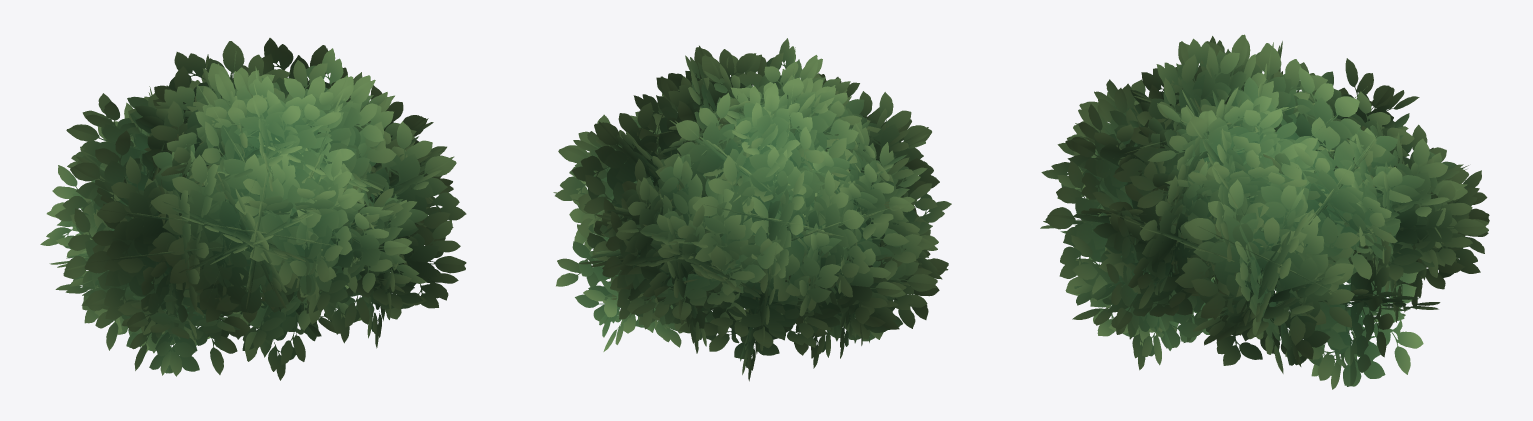
Rendered from bush 1.fbx.
The picture shows the model from 3 angles, left to right: view 1: azimuth 30°, elevation 25°; view 2: azimuth 150°, elevation 25°; view 3: azimuth 270°, elevation 25°; orthographic projection. The views are drawn at different scales.
Visible parts, largest first — view 1: BUSHH; view 2: BUSHH; view 3: BUSHH.
Boxes of the visible parts, left/top/right/bottom form: BUSHH: left=40, top=38, right=466, bottom=380; BUSHH: left=553, top=38, right=951, bottom=381; BUSHH: left=1040, top=34, right=1489, bottom=389.
Size of the model in its own units: 168 by 128 by 173.
